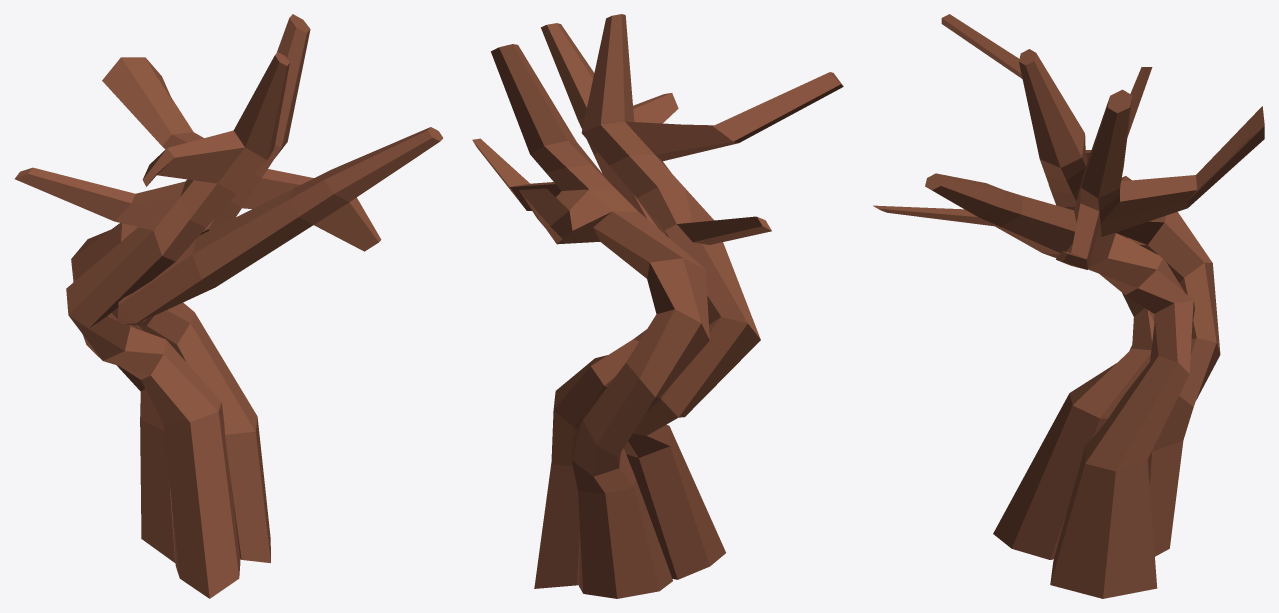
The model's file is Tree_06_spring_mat.fbx.
3 views of the same model, side by side, from view 1: azimuth 30°, elevation 25°; view 2: azimuth 150°, elevation 25°; view 3: azimuth 270°, elevation 25° (orthographic). The views are drawn at different scales.
Visible parts, largest first — view 1: Tree_06_spring_mat; view 2: Tree_06_spring_mat; view 3: Tree_06_spring_mat.
Part boxes in pixels (x1,y1,x2,y2): Tree_06_spring_mat: [15, 14, 443, 598]; Tree_06_spring_mat: [472, 14, 843, 598]; Tree_06_spring_mat: [873, 14, 1264, 598].
Size of the model in its own units: 289 by 437 by 291.
